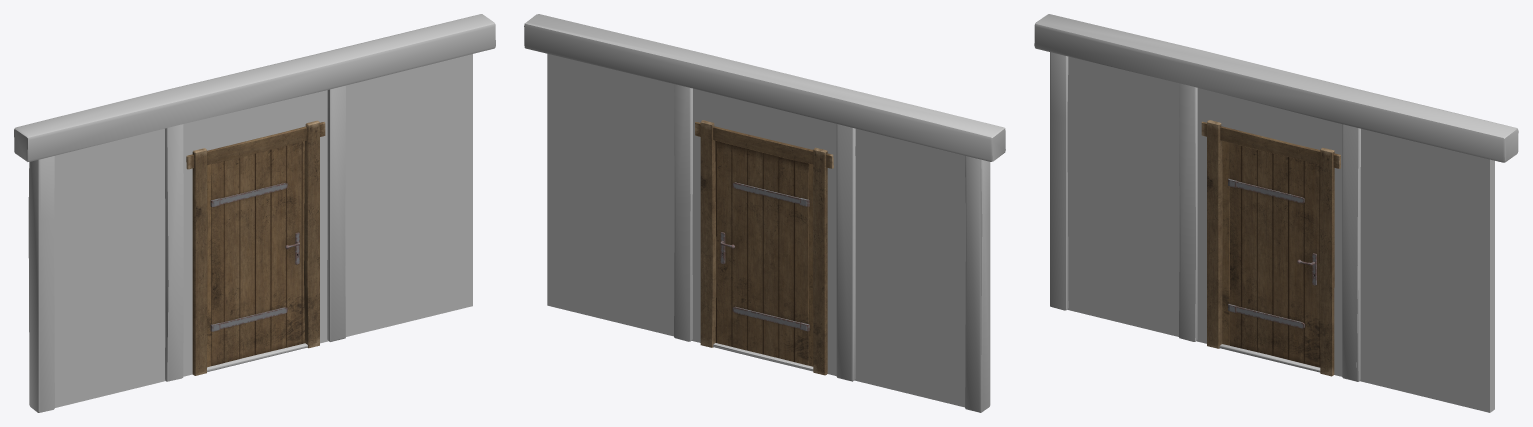
Rendered from SM_WallElement_05_LOD_01.FBX.
3 renders of one model, left to right at view 1: azimuth 30°, elevation 25°; view 2: azimuth 150°, elevation 25°; view 3: azimuth 330°, elevation 25°, orthographic.
Parts seen in each view (by area): view 1: SM_WallElement_05_LOD_01, SM_Door_01_LOD_01; view 2: SM_WallElement_05_LOD_01, SM_Door_01_LOD_01; view 3: SM_WallElement_05_LOD_01, SM_Door_01_LOD_01.
Part boxes in pixels (<box>): SM_WallElement_05_LOD_01: <box>14,14,495,412</box>; SM_Door_01_LOD_01: <box>210,141,305,365</box>; SM_WallElement_05_LOD_01: <box>524,14,1005,412</box>; SM_Door_01_LOD_01: <box>715,140,809,365</box>; SM_WallElement_05_LOD_01: <box>1034,14,1518,412</box>; SM_Door_01_LOD_01: <box>1228,143,1320,367</box>.
Size of the model in its own units: 5.47 by 3.16 by 0.3119.
